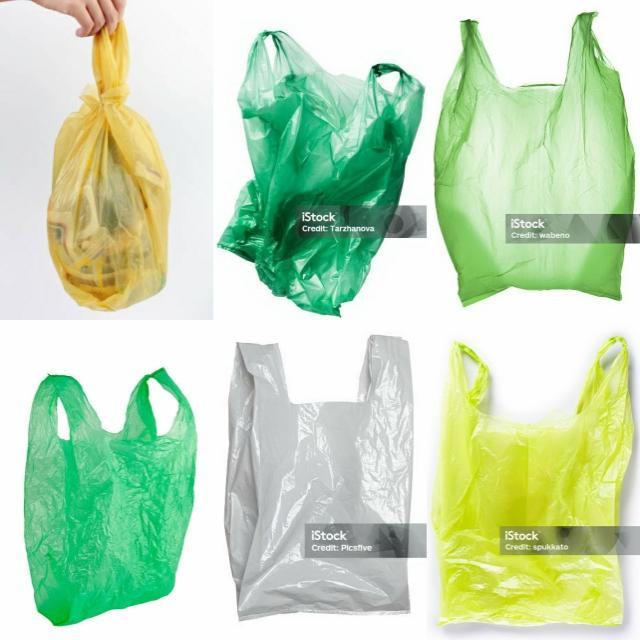Single-layer Plastic: (435, 13, 635, 304), (432, 337, 634, 624), (220, 31, 424, 314), (225, 336, 412, 619), (25, 369, 196, 626), (48, 23, 170, 310)
